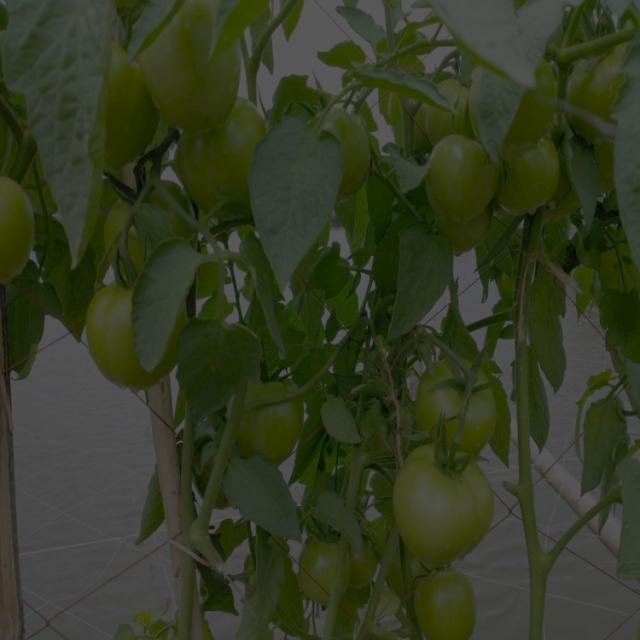tomato: (392, 449, 503, 562), (146, 10, 243, 137), (105, 174, 200, 255), (422, 357, 502, 452), (182, 104, 248, 202), (426, 133, 492, 223), (90, 282, 146, 387), (407, 568, 487, 640), (302, 534, 381, 602), (250, 381, 305, 470), (520, 48, 567, 145), (117, 51, 154, 172), (505, 142, 560, 216), (587, 43, 618, 174), (421, 62, 468, 132), (8, 179, 39, 283), (332, 107, 371, 186)
